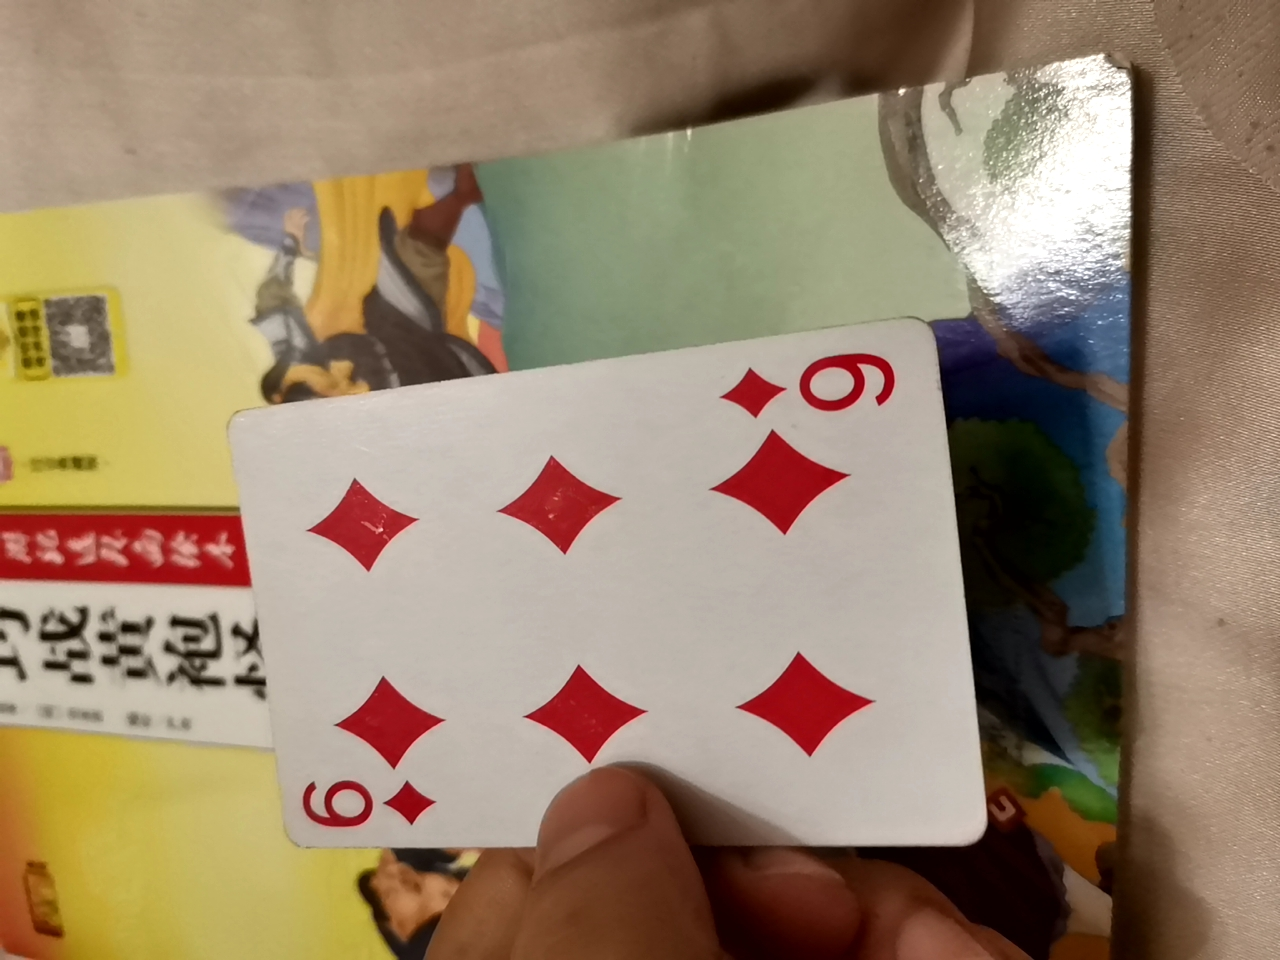fk 6: (204, 332, 976, 858)
